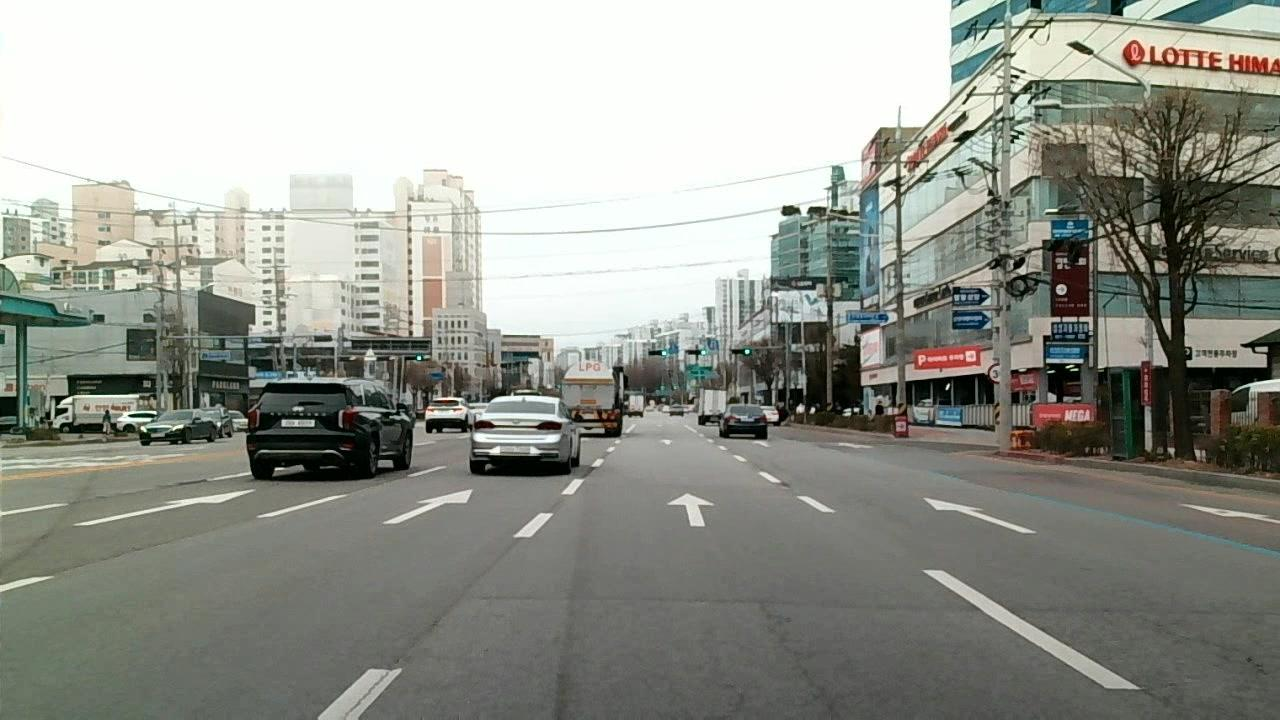banner: (759, 603, 845, 720), (388, 590, 470, 661), (1167, 623, 1268, 679), (50, 540, 164, 583), (974, 604, 1257, 619), (493, 593, 738, 608), (165, 517, 261, 546)
